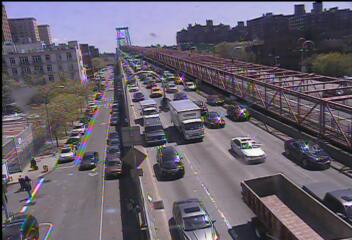neg: (195, 139, 208, 156), (115, 125, 127, 141), (230, 50, 241, 65), (309, 63, 320, 78), (54, 42, 64, 55), (32, 54, 42, 67), (95, 104, 105, 117), (145, 59, 154, 71), (274, 83, 283, 94), (107, 31, 116, 42), (146, 201, 155, 212), (85, 124, 93, 136), (153, 111, 161, 121), (255, 56, 263, 66), (209, 200, 217, 210), (118, 80, 125, 89), (186, 52, 193, 61), (284, 55, 291, 64), (148, 27, 155, 36), (52, 73, 59, 82), (84, 81, 90, 89), (119, 200, 125, 208), (201, 32, 205, 37), (27, 25, 30, 30), (87, 203, 90, 207)
pos: (15, 173, 35, 198), (27, 155, 38, 170), (14, 173, 24, 186)
